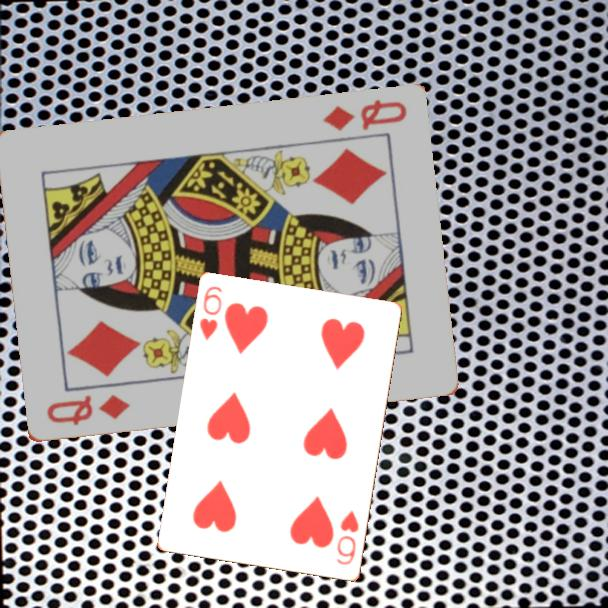d12: (319, 96, 410, 135), (43, 391, 133, 429)
h06: (196, 283, 226, 344), (333, 507, 362, 568)
